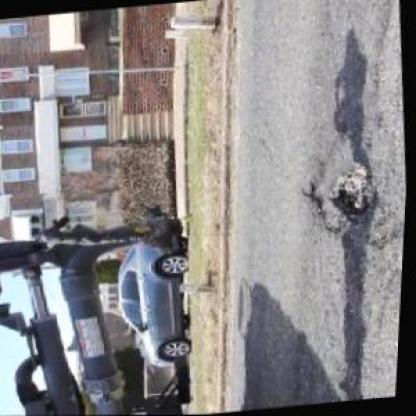pothole: (299, 151, 387, 240)
